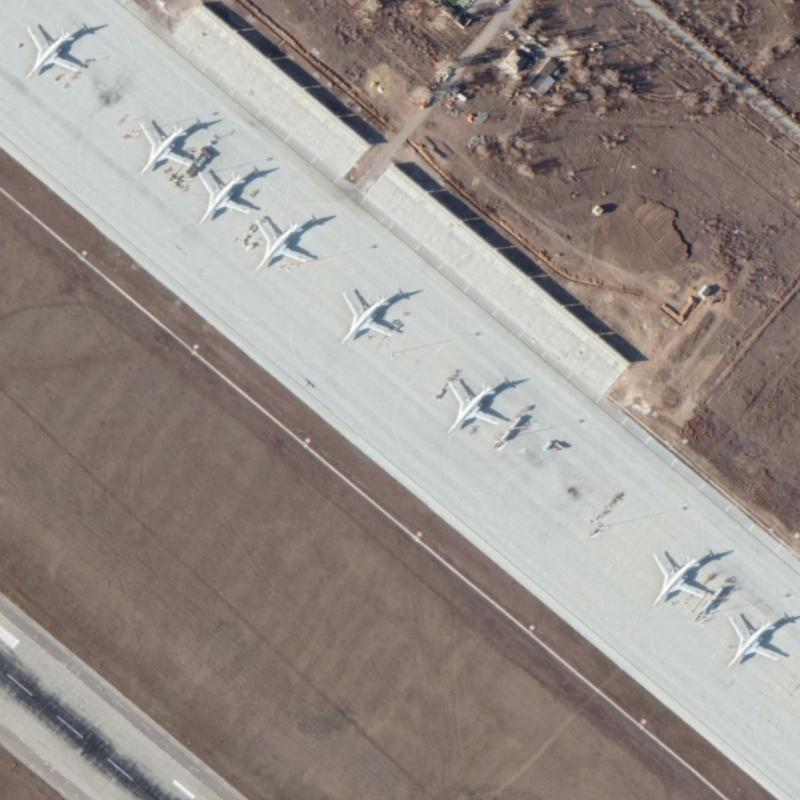A6: (192, 160, 260, 224), (133, 115, 199, 177), (23, 20, 87, 81), (651, 546, 711, 609), (337, 284, 397, 346), (723, 610, 785, 668), (251, 213, 312, 271), (444, 374, 501, 436)
